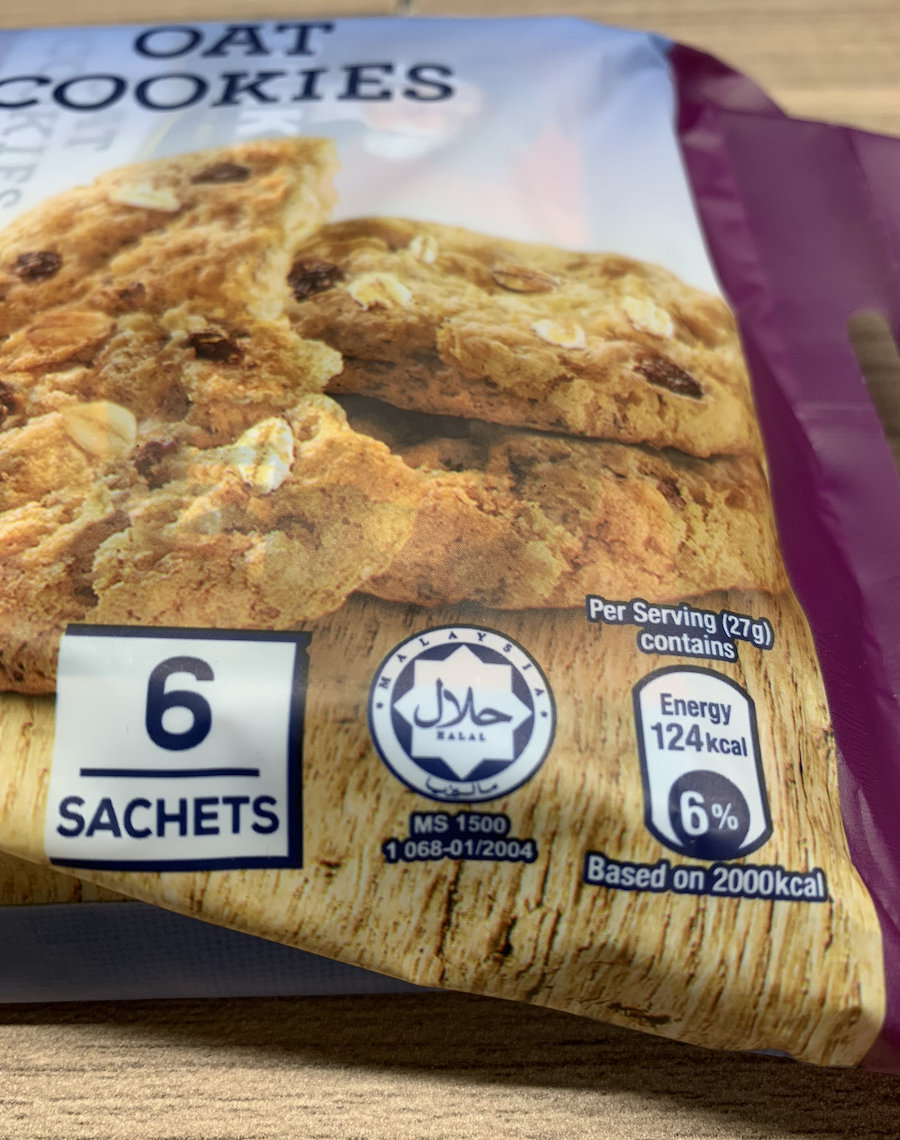halal: (405, 652, 521, 766)
